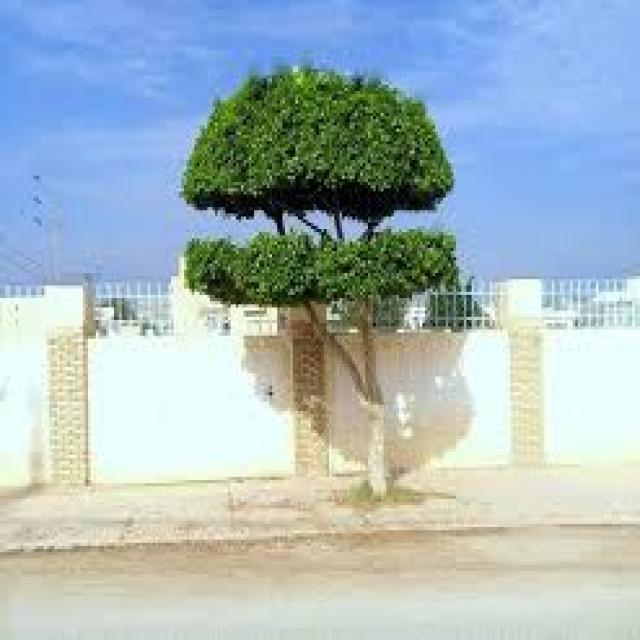Tree: (182, 70, 457, 497)
